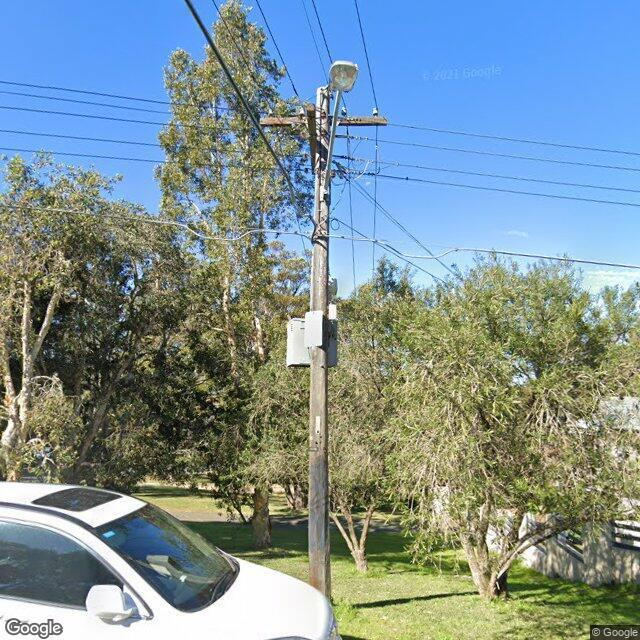crossarm: (259, 115, 388, 128), (306, 104, 316, 176)
streetlight: (323, 61, 360, 191)
timber-pole: (308, 84, 332, 596)
